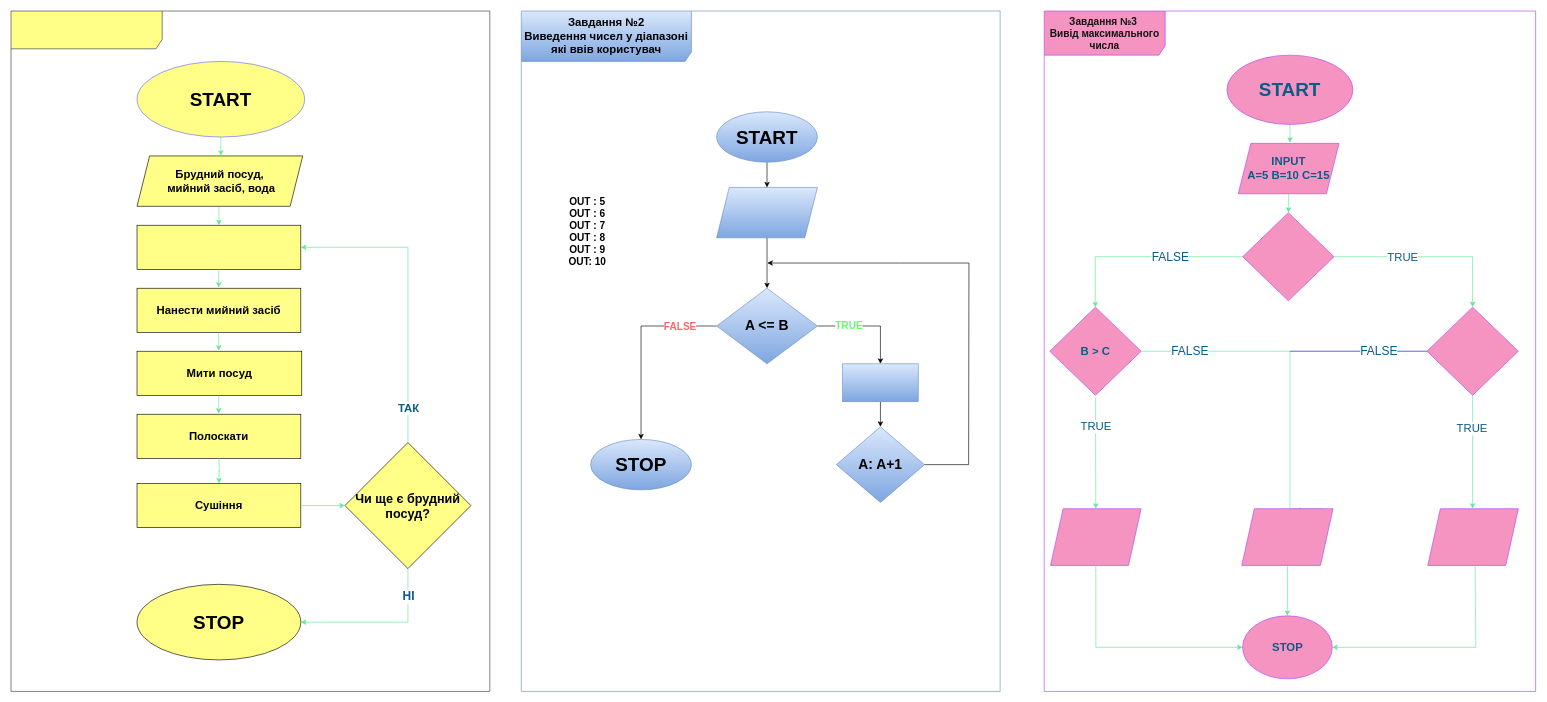
Some shapes in this 1547 by 702 pixel diagram are drawn without their labels. The box of each missing label's shape, as (x1, y1, x2, y2) in pixels:
A < B: (1242, 212, 1334, 301)
A < C: (1426, 306, 1518, 395)
A = 5 B = 10: (716, 187, 817, 238)
OUT: A: (842, 363, 918, 402)
OUTPUT MAX B: (1050, 508, 1141, 565)
OUTPUT MAX C: (1241, 508, 1333, 565)
OUTPUT MIN A: (1427, 508, 1518, 565)
Взяти брудний посуд: (136, 225, 301, 269)
Завдання №1 Алгоритм миття посуду: (10, 10, 490, 691)
